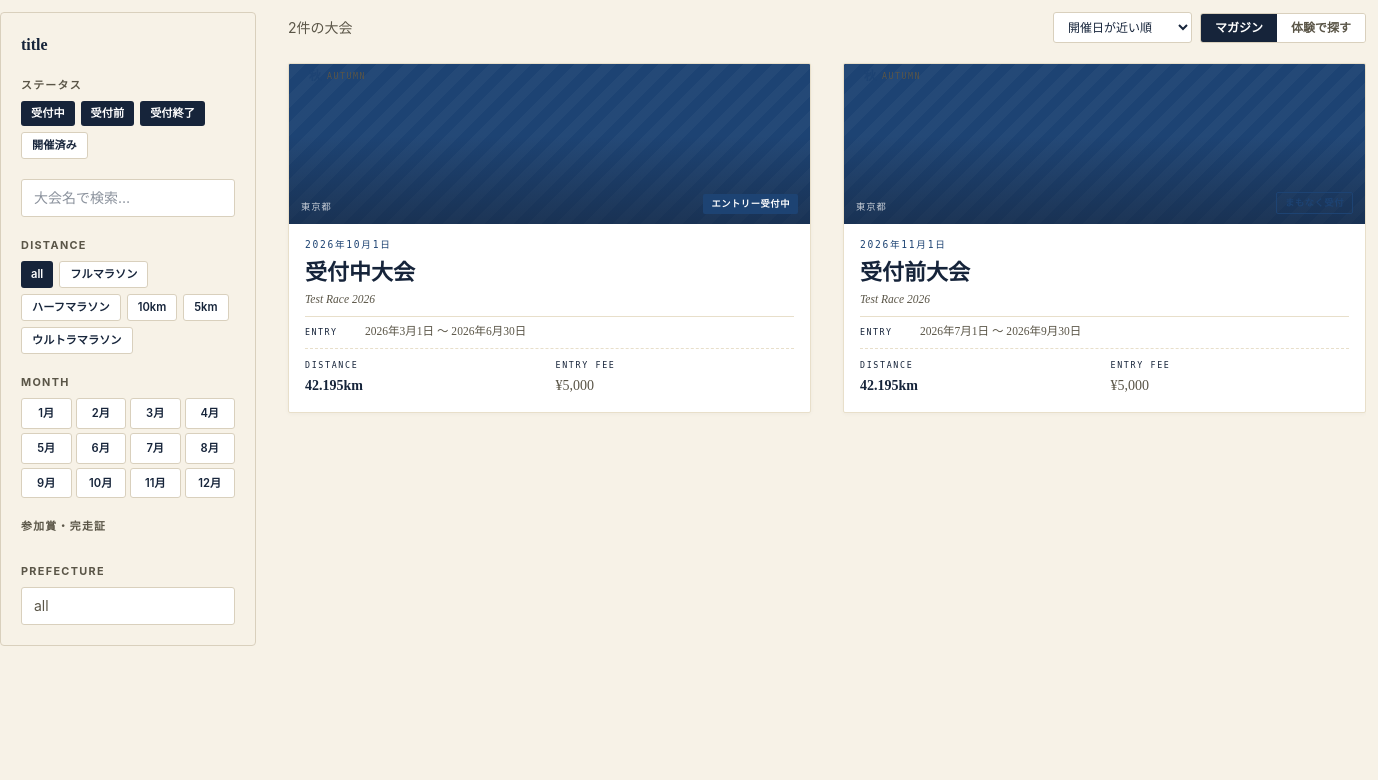
Test case: RaceList - フィルタ操作 › 検索結果が0件のとき「noResults」メッセージが表示される
Type "xxxxxnotfound" into the field with placeholder "大会名で検索…" at (128, 198), box [21,179,235,217]
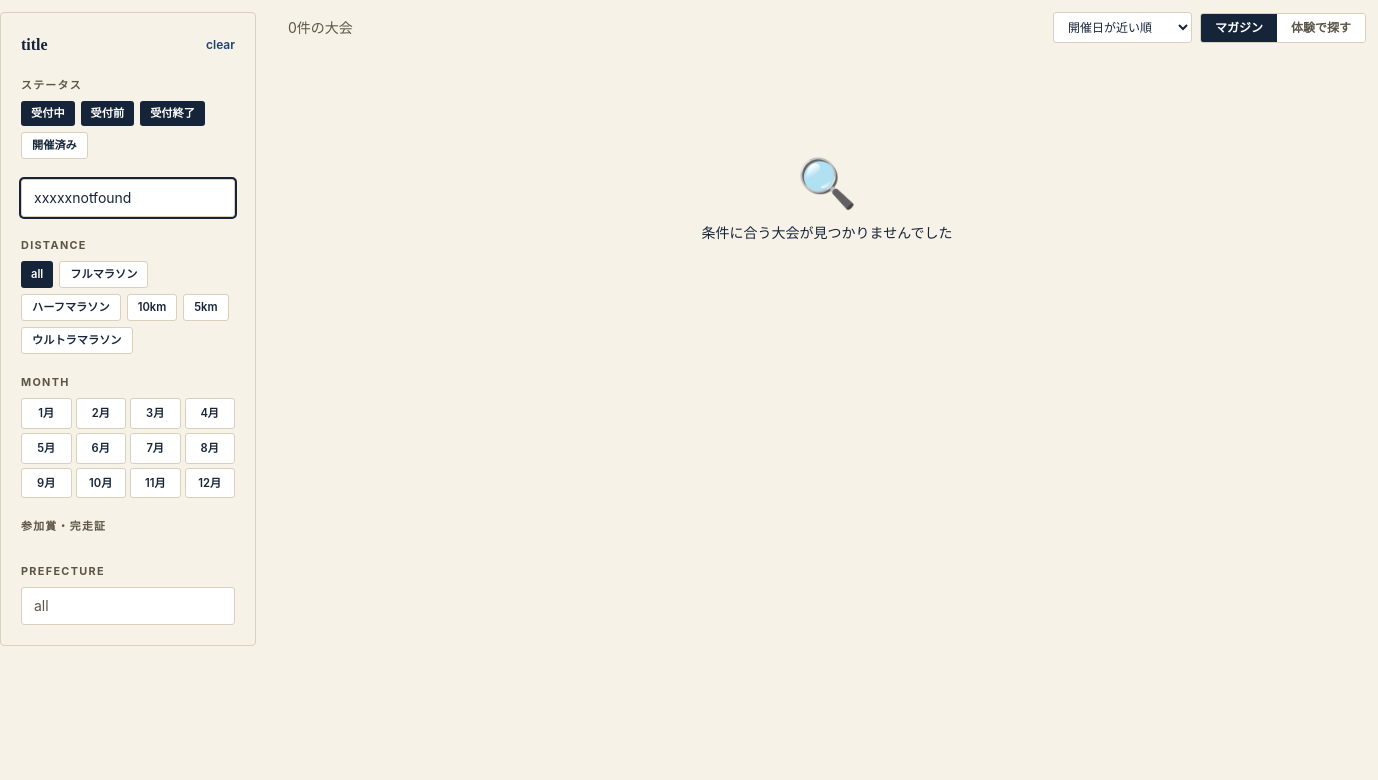
Expected: the text "条件に合う大会が見つかりませんでした" is shown, [702,224,952,241]
